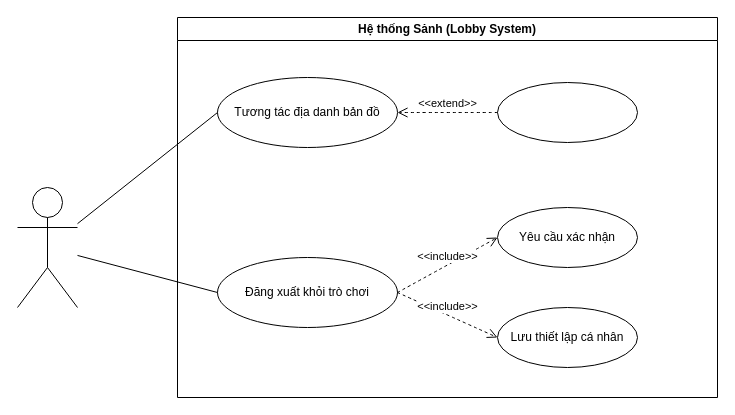
Some shapes in this 735 by 415 pixel diagram are drawn without their labels. Each missing label, with the centre of its shape:
Hiển thị thông báo: point (567, 112)
Người chơi: point (47, 247)
